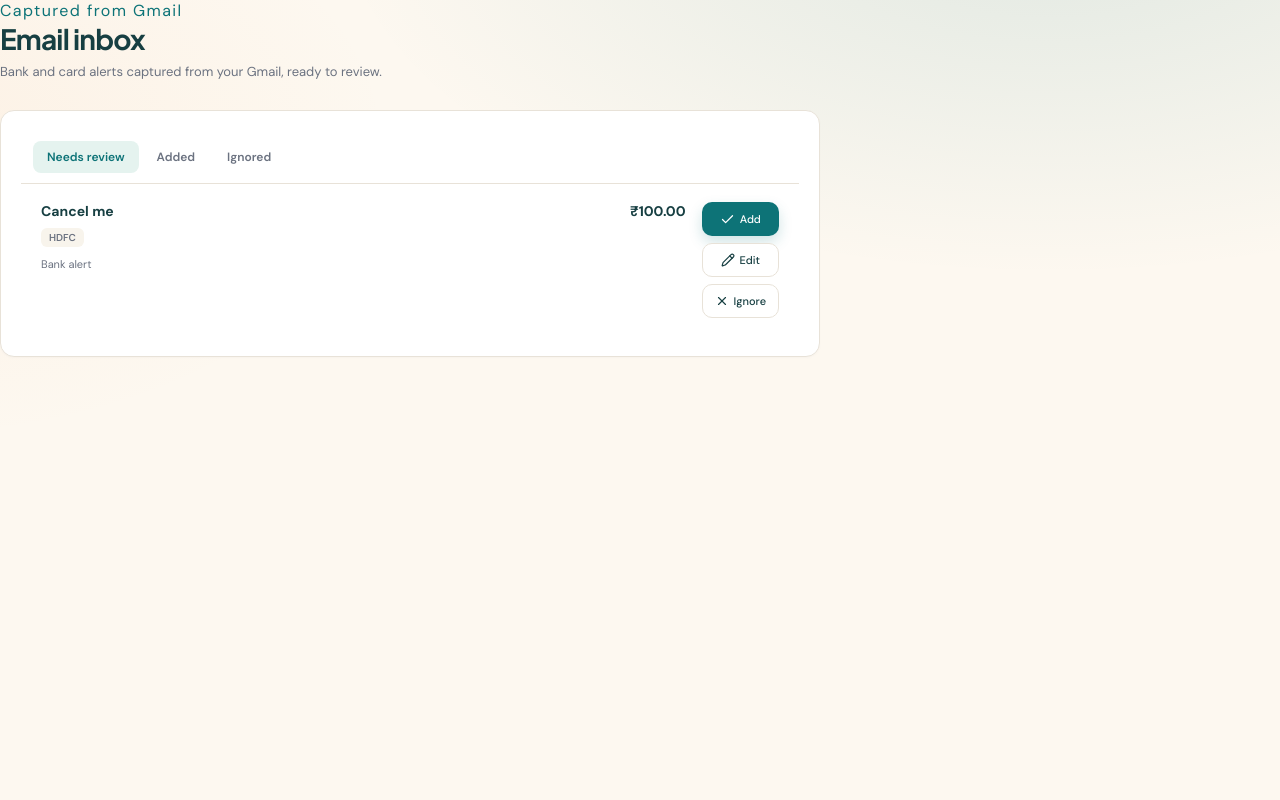
InboxPage › closes the edit modal without accepting
Expected: the text "Cancel me" is shown, 41,202 -> 114,220
Click the button "Edit" at (740, 260), box 702,243 -> 779,277
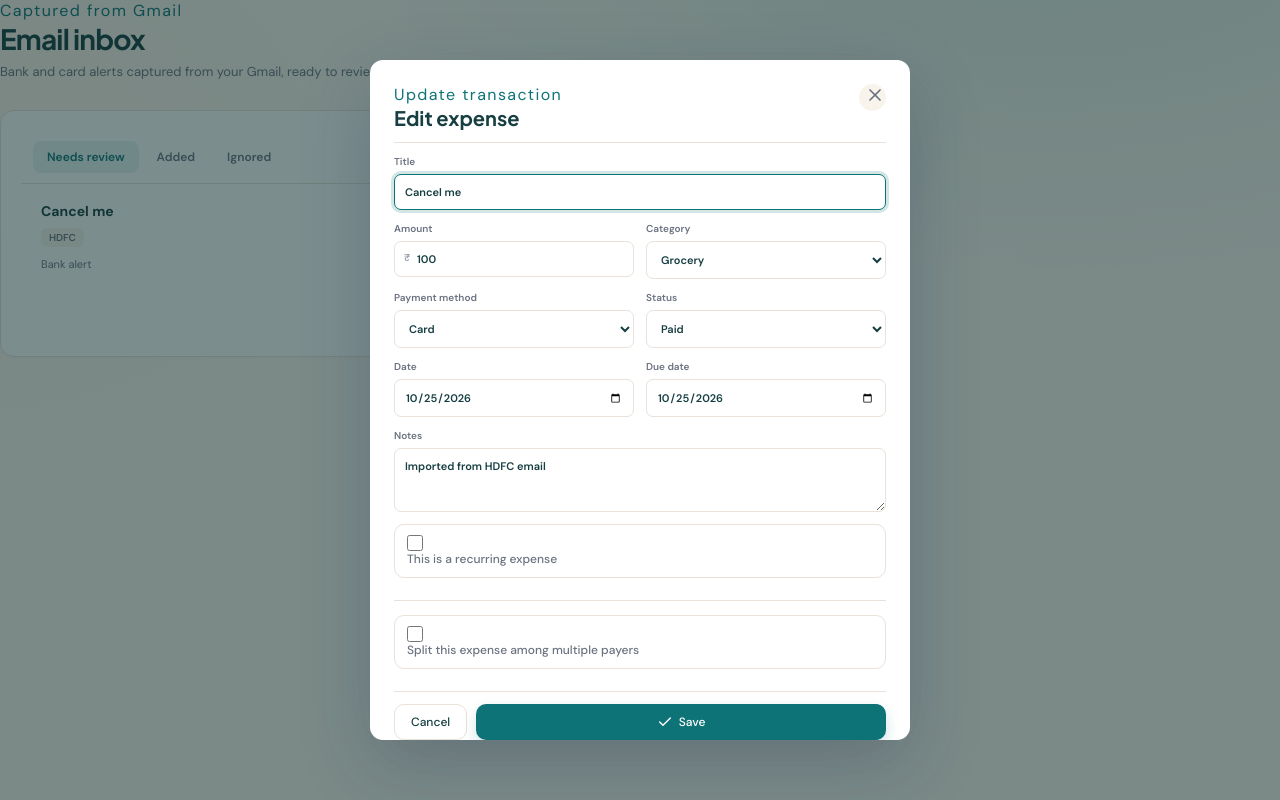
Click the button "Cancel" at (431, 722), box 394,704 -> 467,740
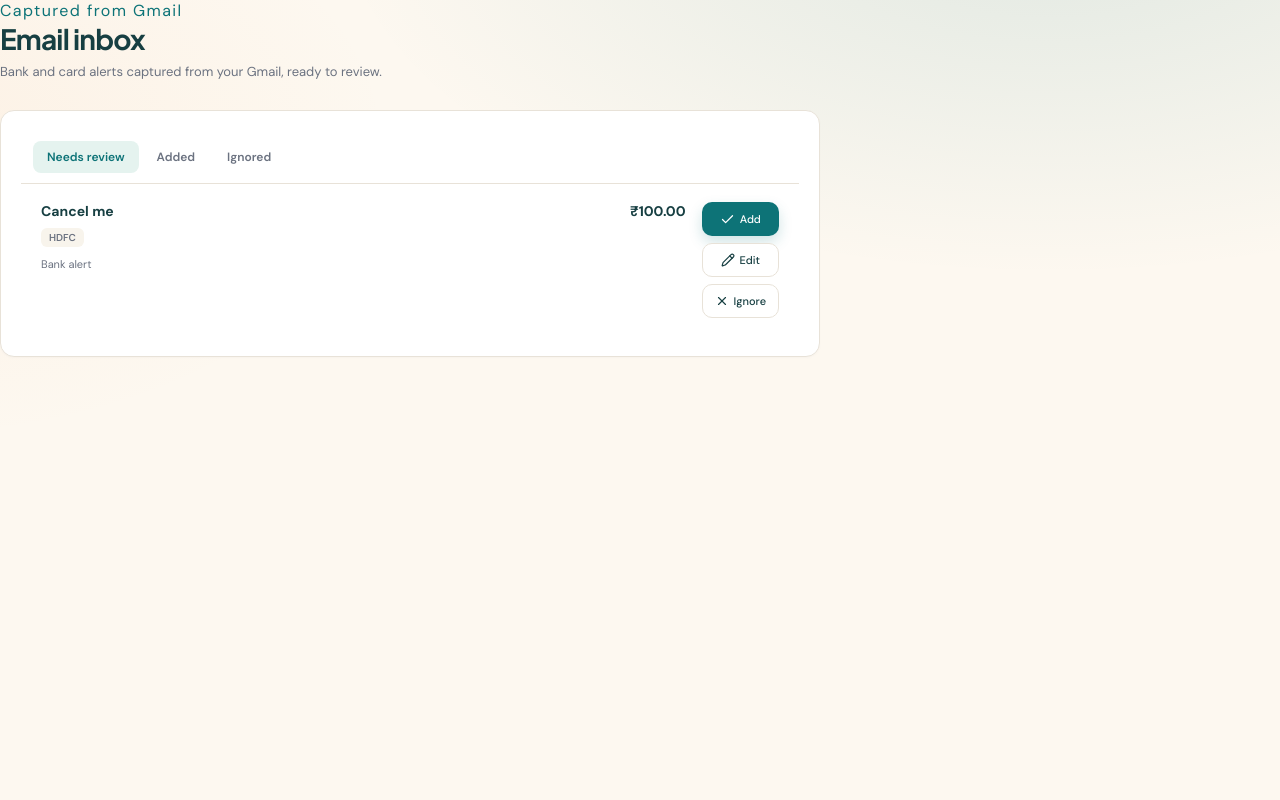
Expected: the heading "Edit expense" is gone
